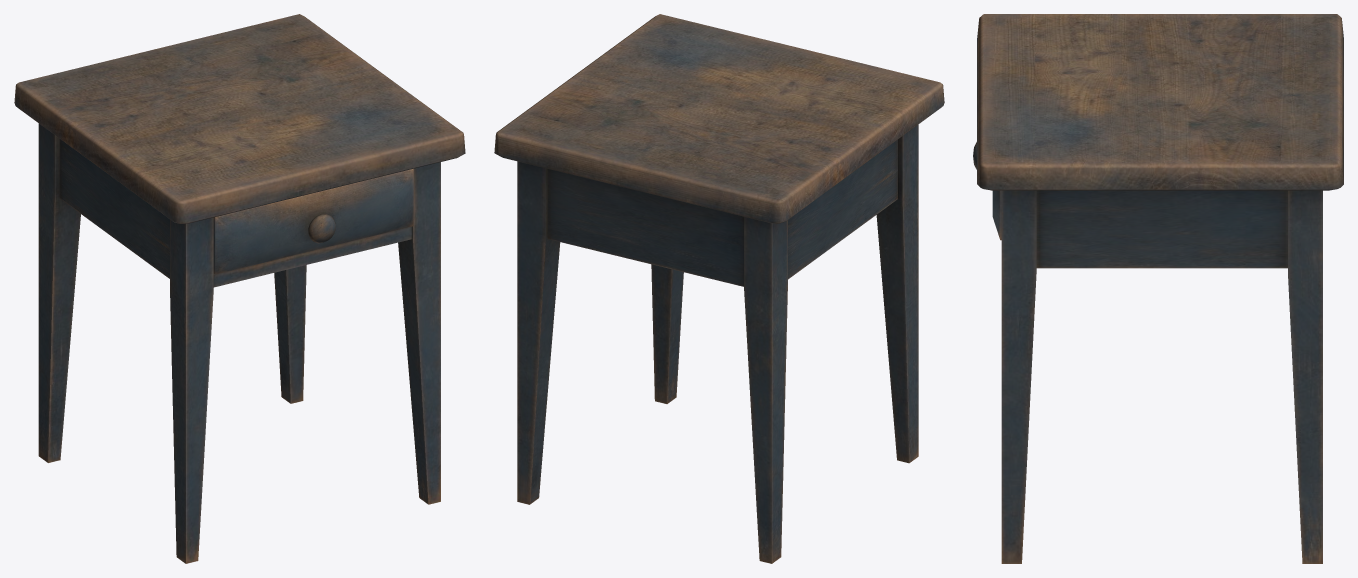
File: painted_wooden_nightstand.glb
3 renders of one model, left to right at view 1: azimuth 30°, elevation 25°; view 2: azimuth 150°, elevation 25°; view 3: azimuth 270°, elevation 25°, orthographic. The views are drawn at different scales.
Parts seen in each view (by area): view 1: painted_wooden_nightstand, painted_wooden_nightstand_drawer; view 2: painted_wooden_nightstand; view 3: painted_wooden_nightstand, painted_wooden_nightstand_drawer.
Part boxes in pixels (x1=…): painted_wooden_nightstand: x1=14, y1=14, x2=465, y2=563; painted_wooden_nightstand_drawer: x1=213, y1=168, x2=413, y2=274; painted_wooden_nightstand: x1=494, y1=14, x2=944, y2=563; painted_wooden_nightstand: x1=977, y1=14, x2=1343, y2=563; painted_wooden_nightstand_drawer: x1=973, y1=142, x2=1001, y2=240.
Size of the model in its own units: 0.5046 by 0.6155 by 0.5087.
Materials: 1 (1 with a texture image).
